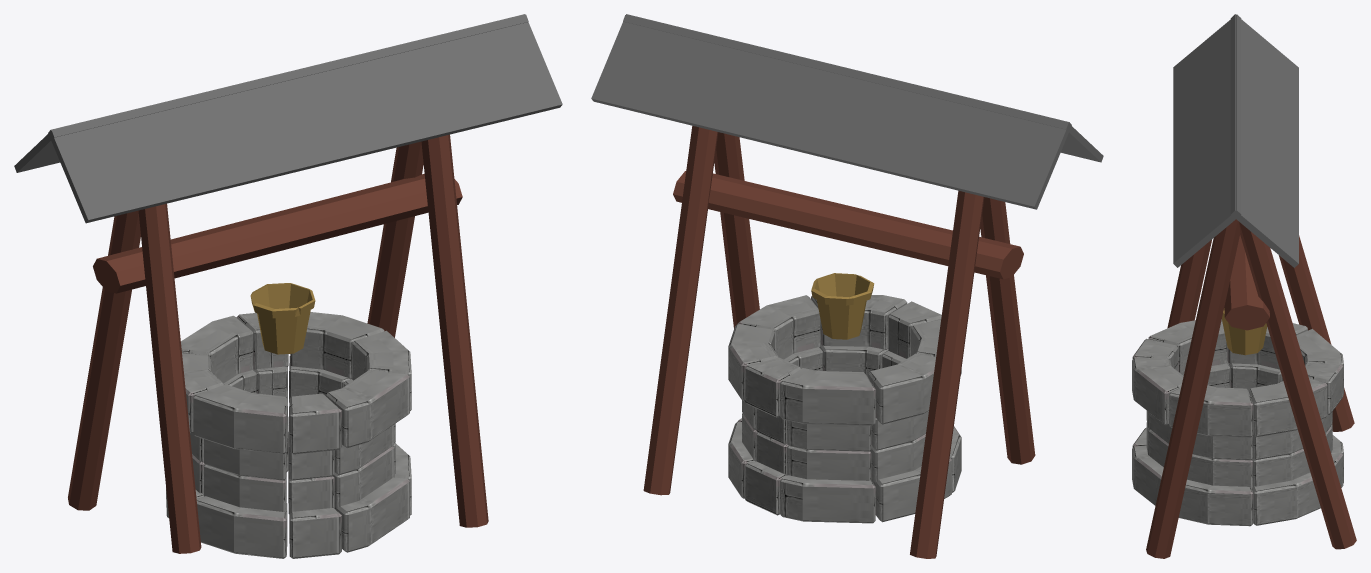
Rendered from PozoConTexturas.fbx.
The picture shows the model from 3 angles, left to right: view 1: azimuth 30°, elevation 25°; view 2: azimuth 150°, elevation 25°; view 3: azimuth 270°, elevation 25°; orthographic projection. The views are drawn at different scales.
Visible parts, largest first — view 1: Plane, Cube.003, Cylinder.005, Cylinder.001, Cube.002, Cylinder.002, Cube.005, Cylinder.003, Cube.001, Plane.001, Cylinder, Cylinder.006; view 2: Plane.001, Cube.003, Cylinder.005, Cylinder, Cylinder.003, Cube.002, Cube.005, Cylinder.002, Cube.001, Plane, Cylinder.001, Cylinder.006; view 3: Plane.001, Plane, Cube.003, Cylinder.001, Cylinder, Cube.002, Cube.005, Cube.001, Cylinder.003, Cylinder.005, Cylinder.002, Cylinder.006.
Part boxes in pixels (x1=…): Plane: x1=48, y1=14, x2=562, y2=223; Cube.003: x1=181, y1=312, x2=411, y2=454; Cylinder.005: x1=93, y1=173, x2=462, y2=293; Cylinder.001: x1=421, y1=134, x2=488, y2=527; Cube.002: x1=166, y1=416, x2=411, y2=558; Cylinder.002: x1=138, y1=203, x2=201, y2=553; Cube.005: x1=190, y1=356, x2=395, y2=480; Cylinder.003: x1=68, y1=210, x2=140, y2=510; Cube.001: x1=192, y1=403, x2=395, y2=514; Plane.001: x1=14, y1=14, x2=528, y2=172; Cylinder: x1=367, y1=141, x2=423, y2=337; Cylinder.006: x1=250, y1=283, x2=315, y2=354; Plane.001: x1=591, y1=14, x2=1071, y2=209; Cube.003: x1=728, y1=295, x2=961, y2=425; Cylinder.005: x1=673, y1=171, x2=1023, y2=279; Cylinder: x1=643, y1=126, x2=718, y2=495; Cylinder.003: x1=910, y1=190, x2=984, y2=558; Cube.002: x1=728, y1=418, x2=961, y2=523; Cube.005: x1=742, y1=344, x2=928, y2=451; Cylinder.002: x1=980, y1=197, x2=1035, y2=464; Cube.001: x1=742, y1=413, x2=925, y2=482; Plane: x1=623, y1=15, x2=1103, y2=162; Cylinder.001: x1=714, y1=132, x2=759, y2=328; Cylinder.006: x1=811, y1=273, x2=874, y2=339; Plane.001: x1=1230, y1=14, x2=1298, y2=267; Plane: x1=1173, y1=14, x2=1241, y2=267; Cube.003: x1=1132, y1=319, x2=1343, y2=437; Cylinder.001: x1=1146, y1=219, x2=1240, y2=558; Cylinder: x1=1239, y1=222, x2=1356, y2=549; Cube.002: x1=1132, y1=427, x2=1343, y2=526; Cube.005: x1=1146, y1=360, x2=1332, y2=460; Cube.001: x1=1146, y1=422, x2=1332, y2=488; Cylinder.003: x1=1278, y1=235, x2=1354, y2=431; Cylinder.005: x1=1224, y1=235, x2=1269, y2=330; Cylinder.002: x1=1167, y1=239, x2=1211, y2=328; Cylinder.006: x1=1222, y1=308, x2=1267, y2=355.
Bounding box in the file's own units: 1858 × 1701 × 899.
7 materials, 4 textured.
